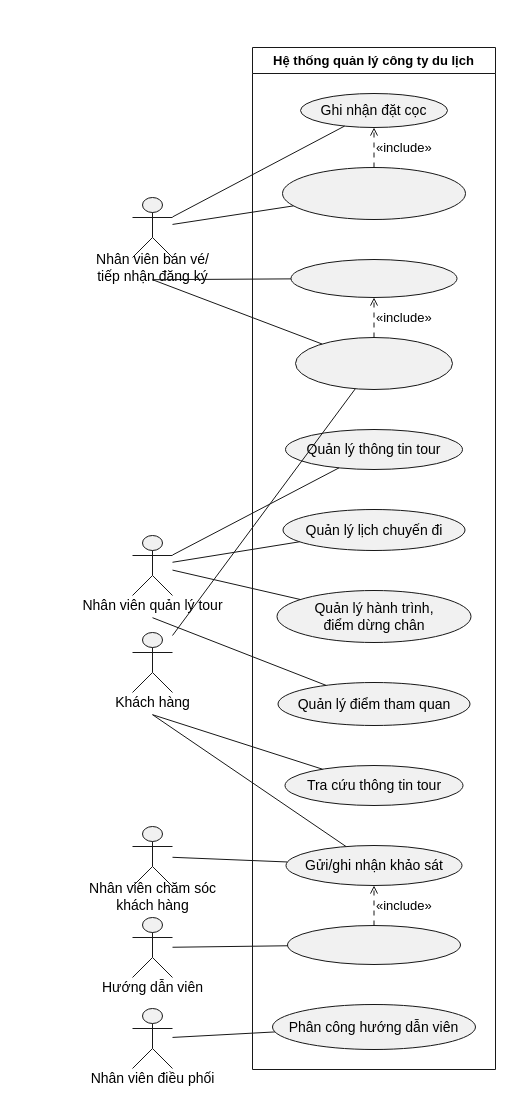
The diagram is 513 pixels wide and 1104 high, and some of its shapes have lost their labels. The shapes that lost their labels are listed below. From the top down, each one's centre as x and y in pixels, then its label:
pixel 374 193: Lập phiếu đăng ký tour theo đoàn
pixel 373 278: Ghi nhận thanh toán
pixel 373 363: Đăng ký chuyến khách lẻ
pixel 373 944: Kết thúc tour/chuyến
